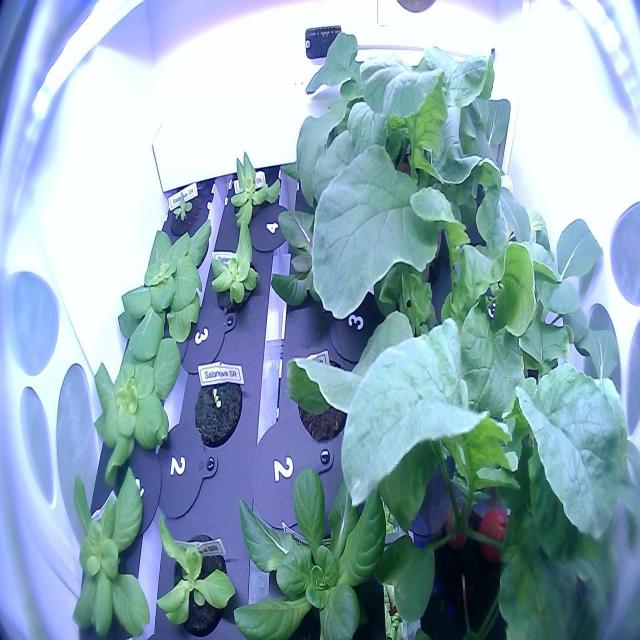germination: (186, 363, 248, 452)
young: (225, 445, 413, 640), (265, 167, 398, 330), (82, 316, 184, 492), (62, 454, 152, 639), (110, 214, 214, 366), (144, 504, 240, 640), (205, 212, 265, 324), (223, 148, 286, 236), (162, 183, 204, 240)
